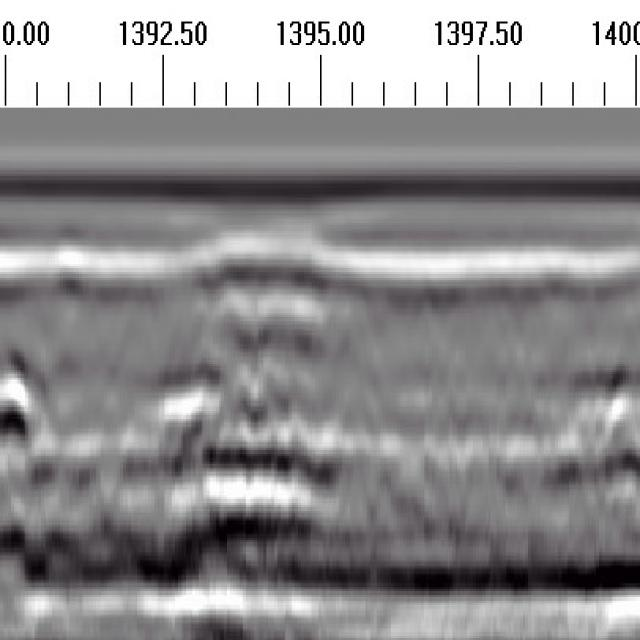loose: (166, 242, 351, 490)
